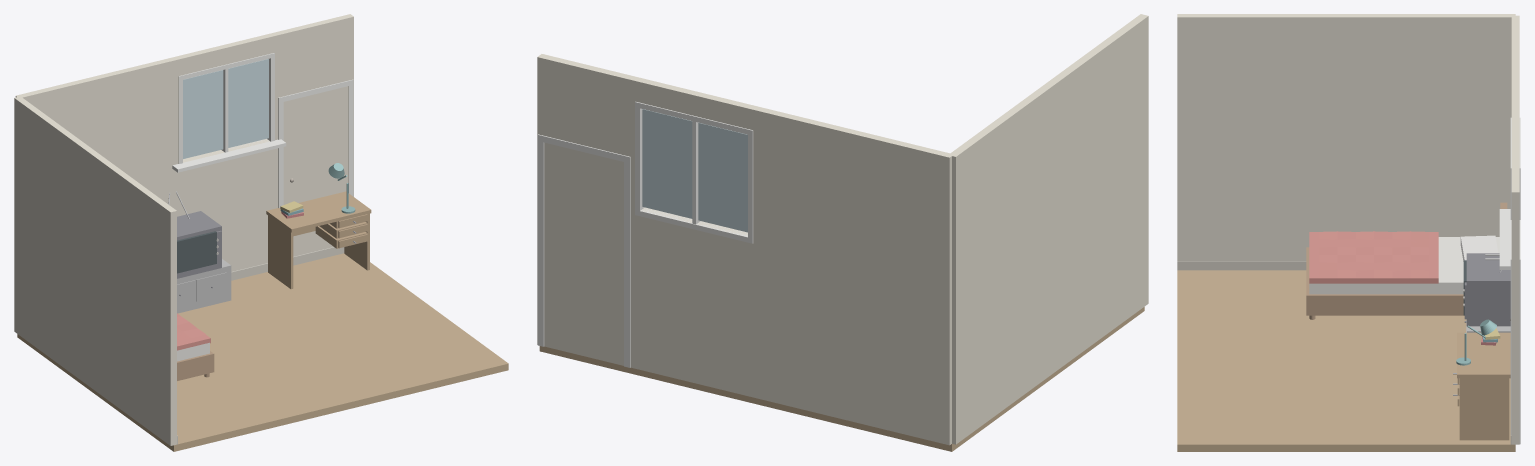
File: room_home.glb
3 views of the same model, side by side, from view 1: azimuth 30°, elevation 25°; view 2: azimuth 150°, elevation 25°; view 3: azimuth 270°, elevation 25° (orthographic). The views are drawn at different scales.
Parts seen in each view (by area): view 1: R_WallL, R_Floor, R_WallBR, R_WallBL, R_WallBW, R_WGlass1, R_WGlass0, F_Desk_Top, R_WallBA, F_Desk_Side-1, F_TV_Screen, F_TV_Body (+11 smaller); view 2: R_WallL, R_WallBL, R_WallBR, R_WallBW, R_WGlass1, R_WGlass0, R_Floor, R_WallBA, R_DFr1, R_DFr-1, R_WFv-1, R_WFr1 (+4 smaller); view 3: R_WallL, R_Floor, F_Bed_BlanketWave, F_Bed_Frame, F_Desk_Side1, F_Bed_Mattress, F_TV_Body, R_WallBR, F_Desk_Top, F_Bed_Blanket, R_BaseL2, R_WallBL (+4 smaller).
Boxes of the visible parts, x1,y1,x2,y2 form: R_WallL: (14, 96, 176, 445); R_Floor: (17, 253, 508, 451); R_WallBR: (271, 14, 353, 256); R_WallBL: (15, 57, 178, 216); R_WallBW: (178, 139, 274, 271); R_WGlass1: (228, 59, 268, 147); R_WGlass0: (183, 70, 223, 158); F_Desk_Top: (266, 191, 371, 232); R_WallBA: (175, 33, 274, 75); F_Desk_Side-1: (268, 215, 293, 289); F_TV_Screen: (177, 231, 216, 273); F_TV_Body: (177, 211, 221, 278); R_WallL: (950, 14, 1148, 444); R_WallBL: (753, 106, 953, 445); R_WallBR: (537, 54, 639, 368); R_WallBW: (635, 207, 753, 397); R_WGlass1: (642, 109, 692, 218); R_WGlass0: (698, 122, 747, 232); R_Floor: (539, 307, 1144, 451); R_WallBA: (635, 77, 757, 129); R_DFr1: (537, 140, 544, 346); R_DFr-1: (624, 161, 630, 367); R_WFv-1: (635, 208, 753, 243); R_WFr1: (635, 107, 644, 210); R_WallL: (1177, 14, 1515, 260); R_Floor: (1177, 270, 1515, 451); F_Bed_BlanketWave: (1319, 231, 1428, 278); F_Bed_Frame: (1306, 247, 1463, 315); F_Desk_Side1: (1459, 378, 1509, 440); F_Bed_Mattress: (1309, 237, 1499, 294); F_TV_Body: (1466, 253, 1510, 326); R_WallBR: (1511, 150, 1519, 444); F_Desk_Top: (1457, 332, 1510, 378); F_Bed_Blanket: (1309, 232, 1438, 283); R_BaseL2: (1177, 261, 1306, 270); R_WallBL: (1511, 15, 1519, 99).
Bounding box in the file's own units: 4.24 × 2.88 × 3.45.
